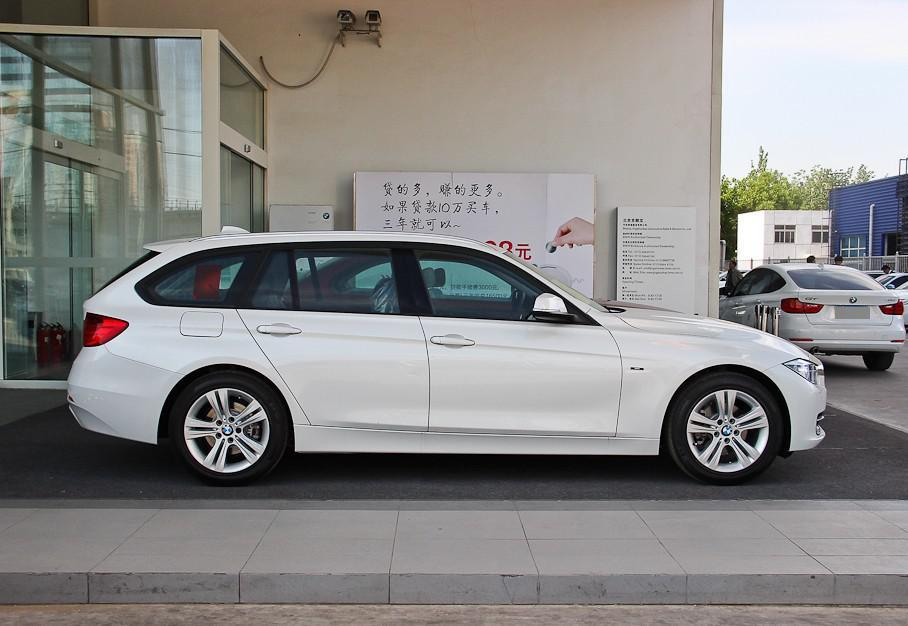Wagon: (67, 225, 827, 484)
